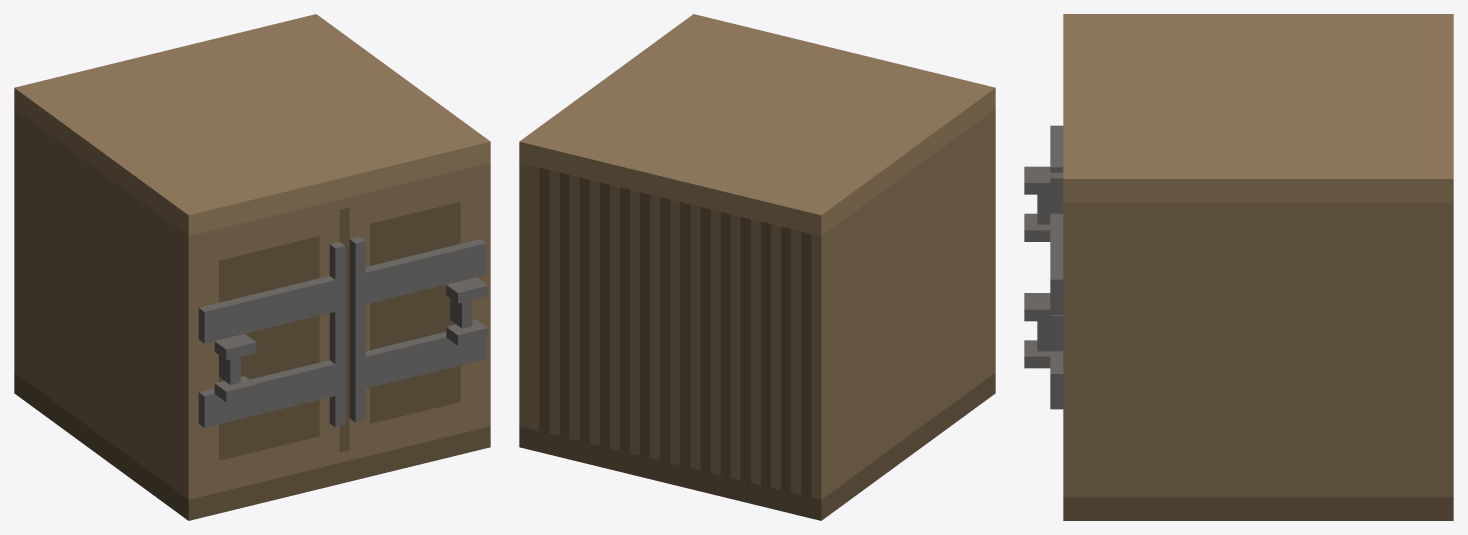
The model's file is armario_grande_roble_tallado_01.glb.
The picture shows the model from 3 angles, left to right: view 1: azimuth 30°, elevation 25°; view 2: azimuth 150°, elevation 25°; view 3: azimuth 270°, elevation 25°; orthographic projection. The views are drawn at different scales.
Parts seen in each view (by area): view 1: armario_grande_roble_tallado; view 2: armario_grande_roble_tallado; view 3: armario_grande_roble_tallado.
Part boxes in pixels (x1,y1,x2,y2): armario_grande_roble_tallado: (14,14,490,520); armario_grande_roble_tallado: (519,14,995,520); armario_grande_roble_tallado: (1024,14,1453,520).
Bounding box in the file's own units: 2 × 1.93 × 2.2.
